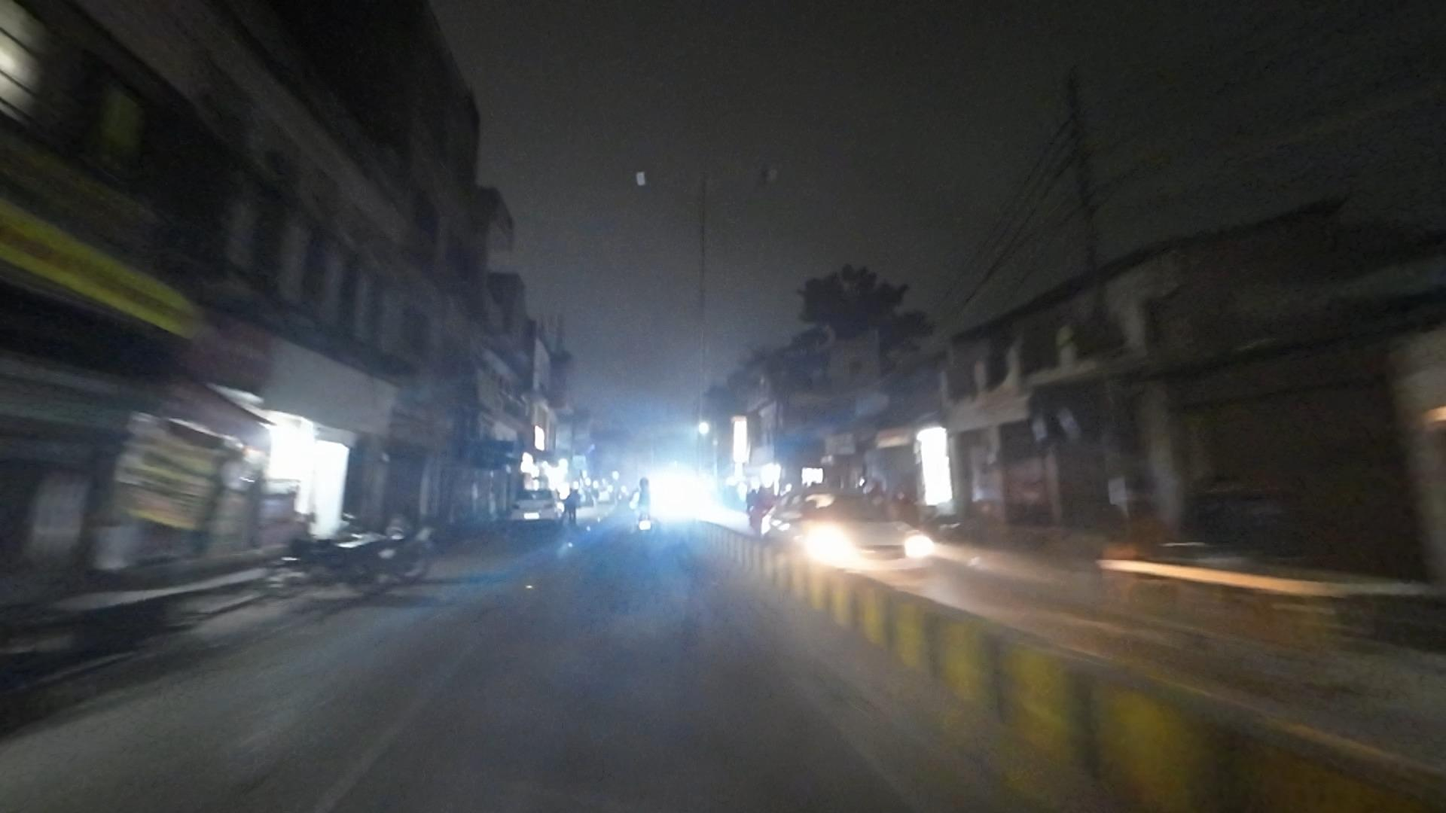streetlight: (622, 166, 688, 193), (708, 163, 782, 186)
